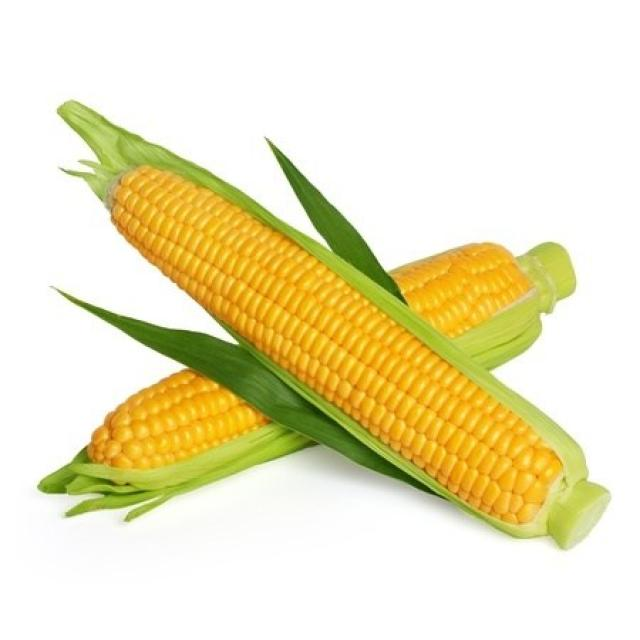corn: (51, 128, 614, 558)
